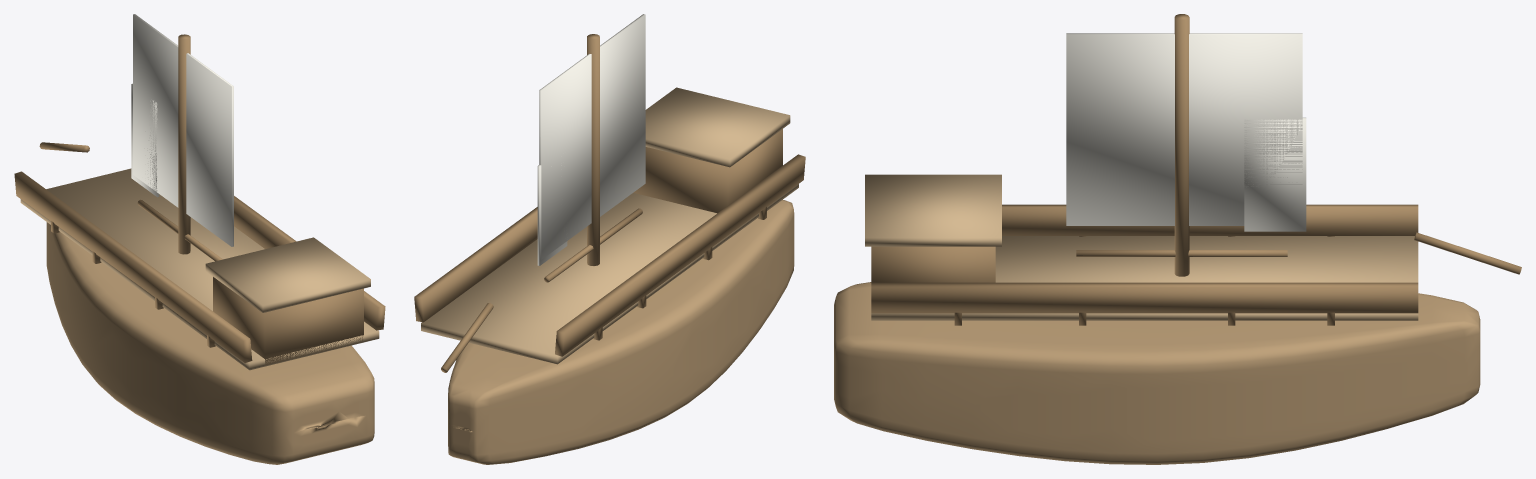
The model's file is ship_sailboat.glb.
The picture shows the model from 3 angles, left to right: view 1: azimuth 30°, elevation 25°; view 2: azimuth 150°, elevation 25°; view 3: azimuth 270°, elevation 25°; orthographic projection. The views are drawn at different scales.
Visible parts, largest first — view 1: ship_sailboat; view 2: ship_sailboat; view 3: ship_sailboat.
Boxes of the visible parts, x1=… form: ship_sailboat: x1=14, y1=14, x2=385, y2=464; ship_sailboat: x1=414, y1=14, x2=805, y2=464; ship_sailboat: x1=834, y1=14, x2=1521, y2=464.
Size of the model in its own units: 1.84 by 3.59 by 5.53.
